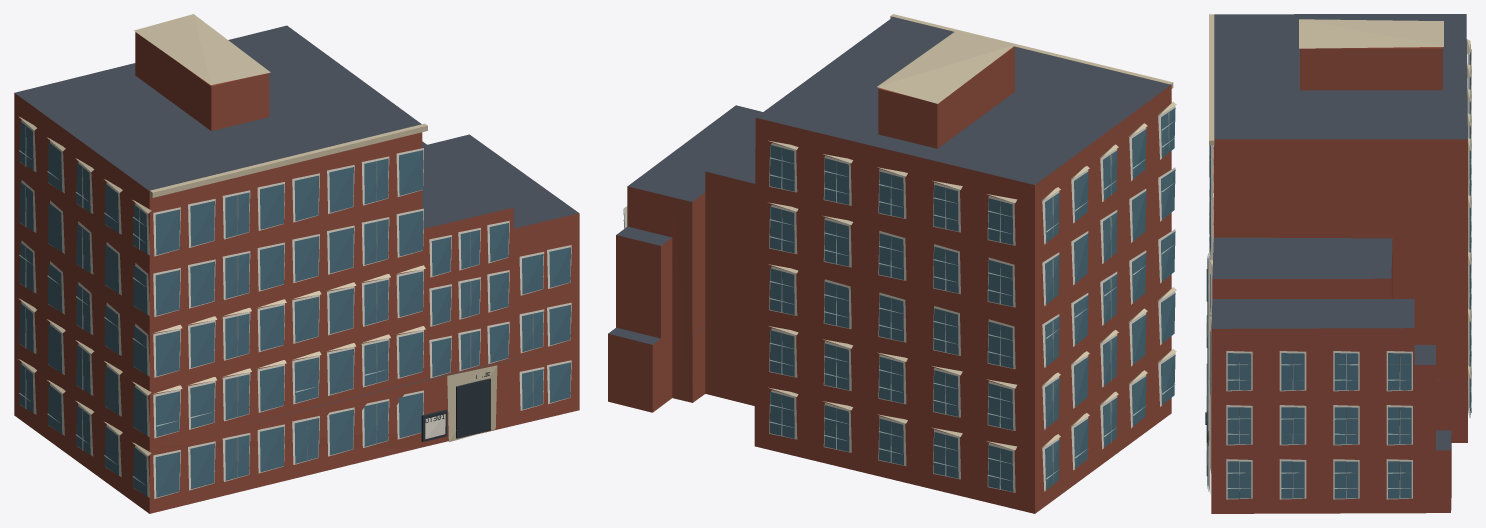
3 renders of one model, left to right at view 1: azimuth 30°, elevation 25°; view 2: azimuth 150°, elevation 25°; view 3: azimuth 270°, elevation 25°, orthographic. The views are drawn at different scales.
Visible parts, largest first — view 1: ot301; view 2: ot301; view 3: ot301.
Boxes of the visible parts, <box> form: ot301: <box>14,14,579,513</box>; ot301: <box>608,14,1176,513</box>; ot301: <box>1205,14,1471,513</box>.
Bounding box in the file's own units: 30.18 × 24.38 × 16.94.
